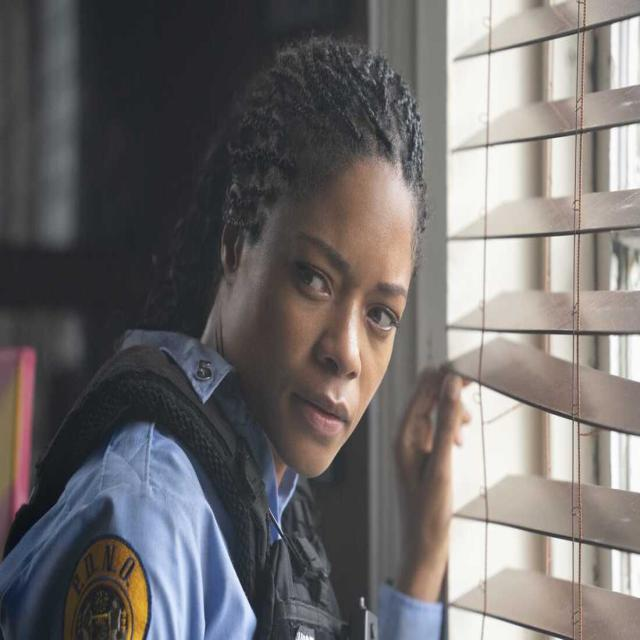police: (47, 0, 460, 640)
